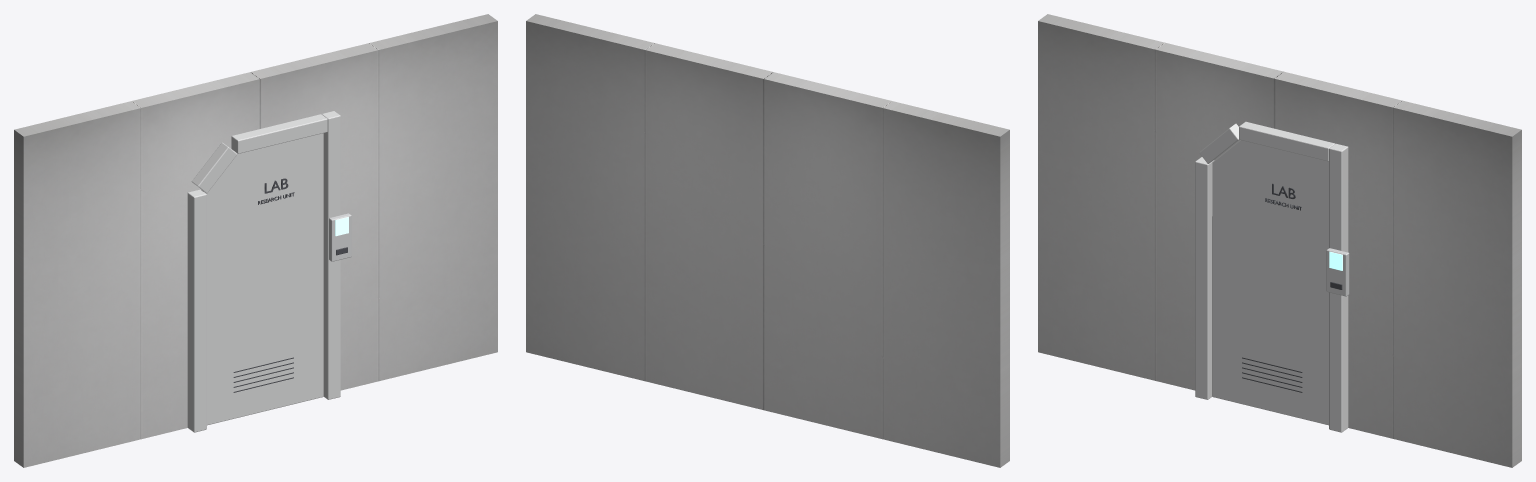
Rendered from LabDoor.glb.
3 views of the same model, side by side, from view 1: azimuth 30°, elevation 25°; view 2: azimuth 150°, elevation 25°; view 3: azimuth 330°, elevation 25° (orthographic).
Parts seen in each view (by area): view 1: LabDoor; view 2: LabDoor; view 3: LabDoor.
Boxes of the visible parts, bbox=[...] form: LabDoor: bbox=[14, 14, 497, 467]; LabDoor: bbox=[526, 14, 1009, 467]; LabDoor: bbox=[1038, 14, 1521, 467].
Size of the model in its own units: 4 by 2.67 by 0.292.
5 materials, 1 textured.
